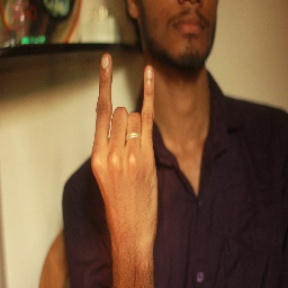V: (80, 49, 164, 220)
